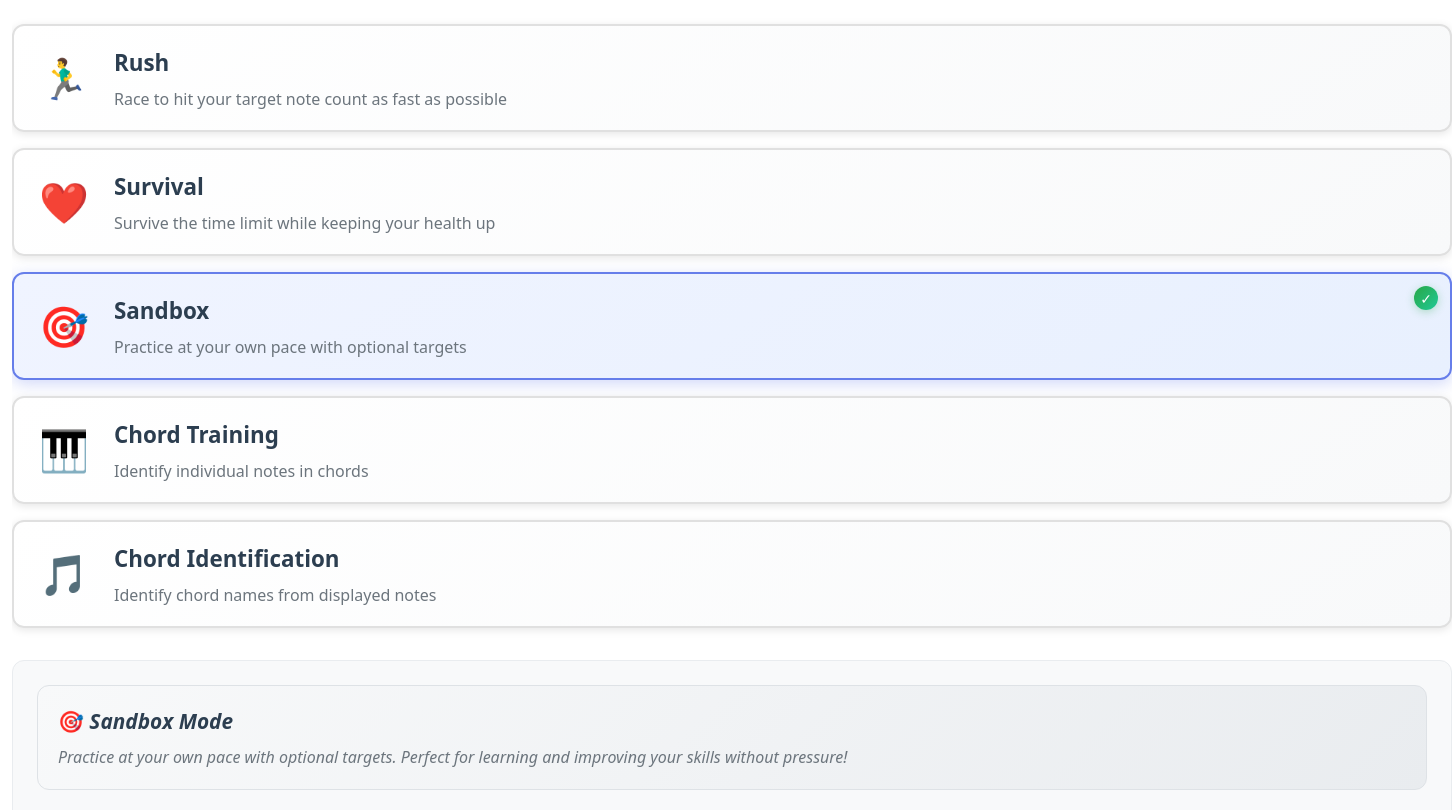
Test case: Training Type Switching Integration Test › Cross-Training Type Switching › should switch from Chord Identification (note-training) to Survival (ear-training)
The width and height of the screenshot is (1452, 810).
Click the text "Chord Identification".
click(732, 574)  # box [12, 520, 1451, 628]
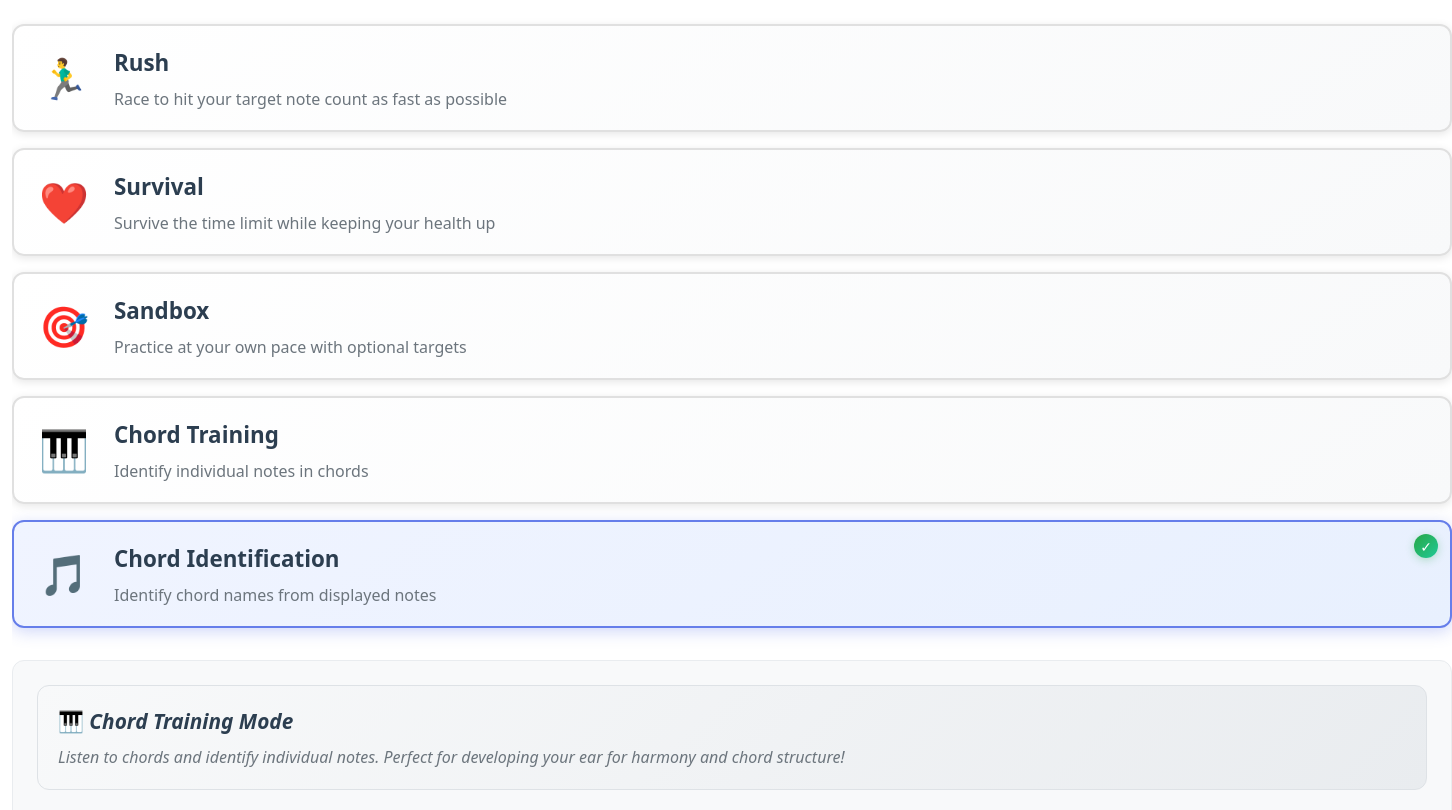
Click the text "Survival".
click(732, 202)  # box [12, 148, 1451, 256]
(page scrolled)
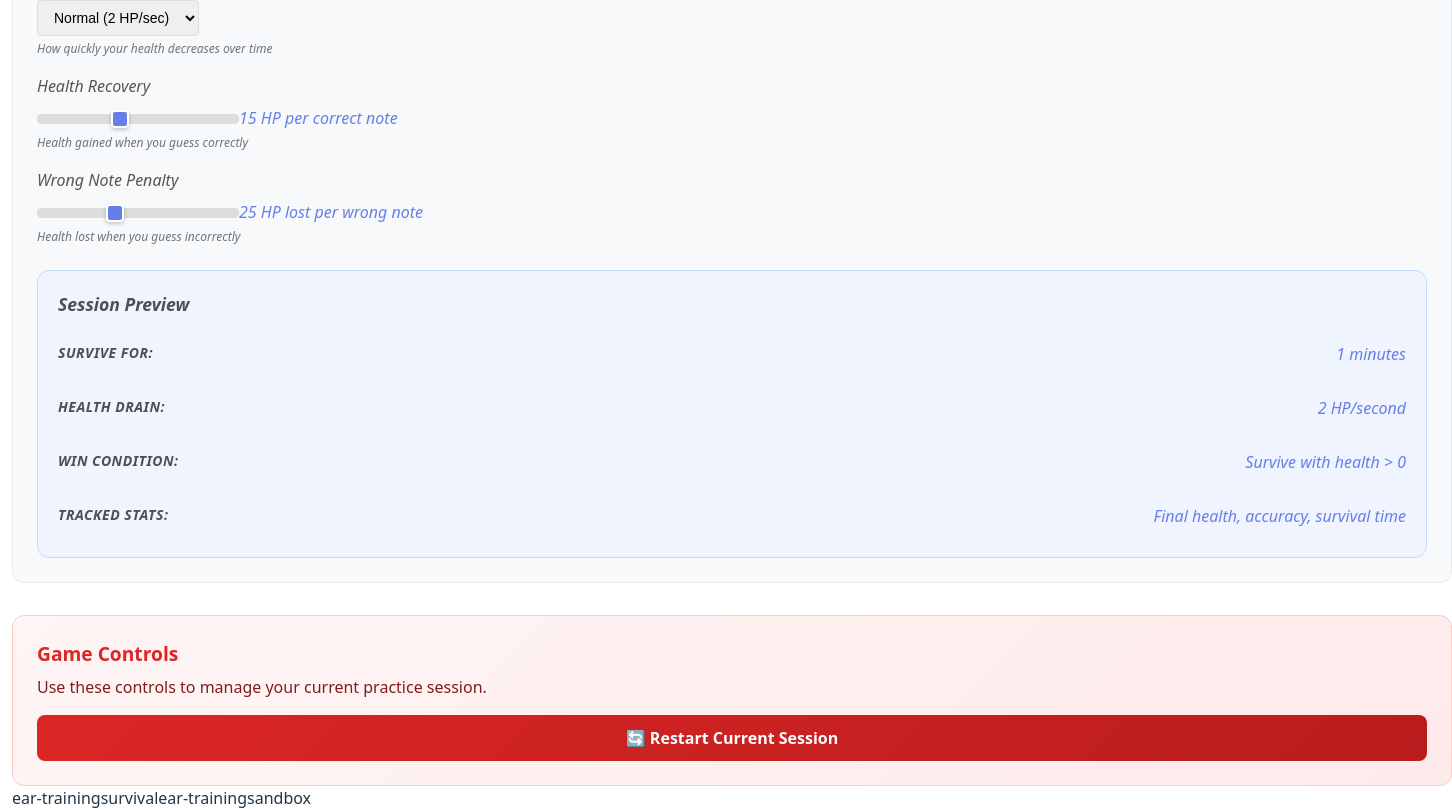
Check: the text with test id "pending-selected-mode" reads "survival", box [101, 787, 158, 809]
Check: the text with test id "pending-training-type" reads "ear-training", box [12, 787, 101, 809]
